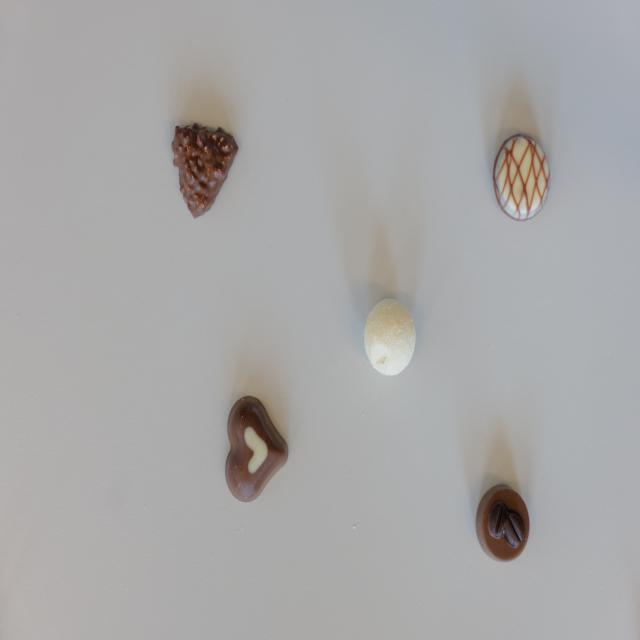Arabia: (475, 482, 530, 564)
Comtesse: (364, 298, 418, 376)
Creme_brulee: (494, 133, 552, 220)
Passion_au_lait: (224, 395, 290, 501)
Triangolo: (172, 122, 238, 219)
